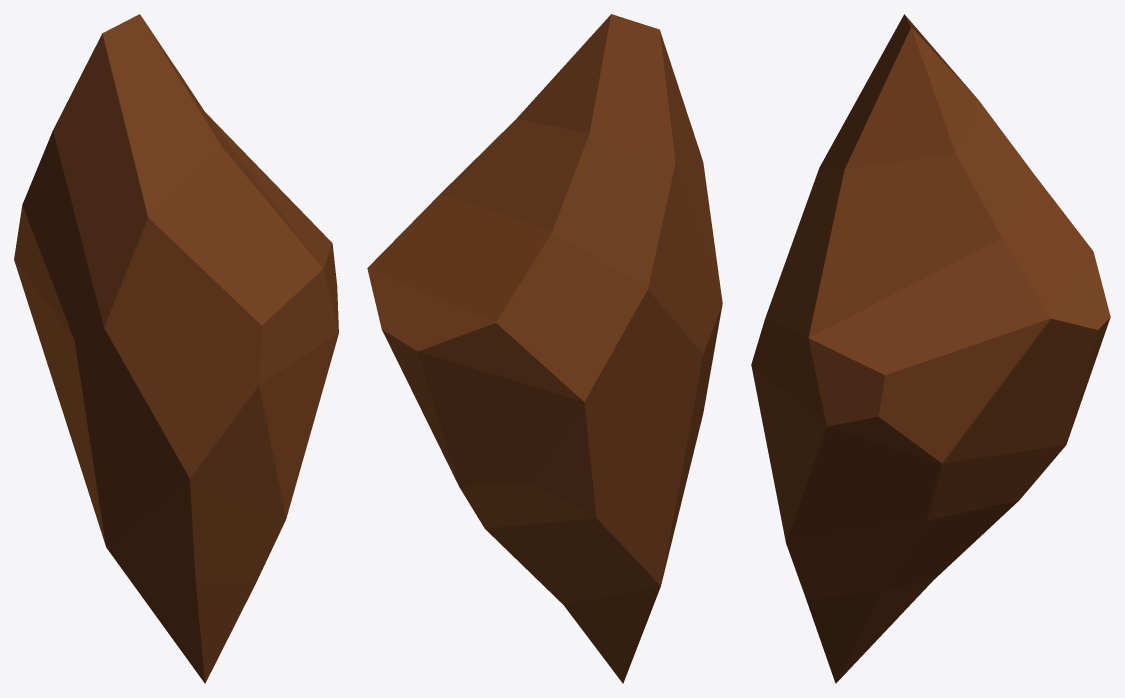
Rendered from SmallRock_02.fbx.
3 renders of one model, left to right at view 1: azimuth 30°, elevation 25°; view 2: azimuth 150°, elevation 25°; view 3: azimuth 270°, elevation 25°, orthographic. The views are drawn at different scales.
Visible parts, largest first — view 1: SmallRock_02; view 2: SmallRock_02; view 3: SmallRock_02.
Boxes of the visible parts, <box> form: SmallRock_02: <box>14,14,338,683</box>; SmallRock_02: <box>367,14,722,683</box>; SmallRock_02: <box>751,14,1110,683</box>.
Bounding box in the file's own units: 227 × 549 × 278.
